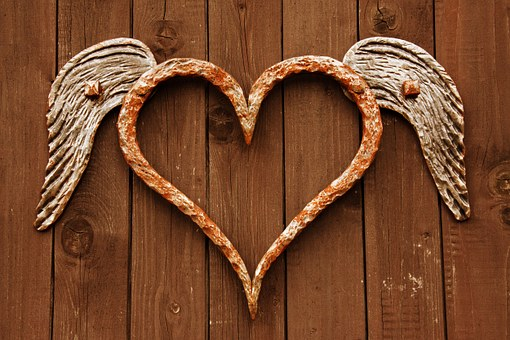rust: (116, 52, 384, 321)
